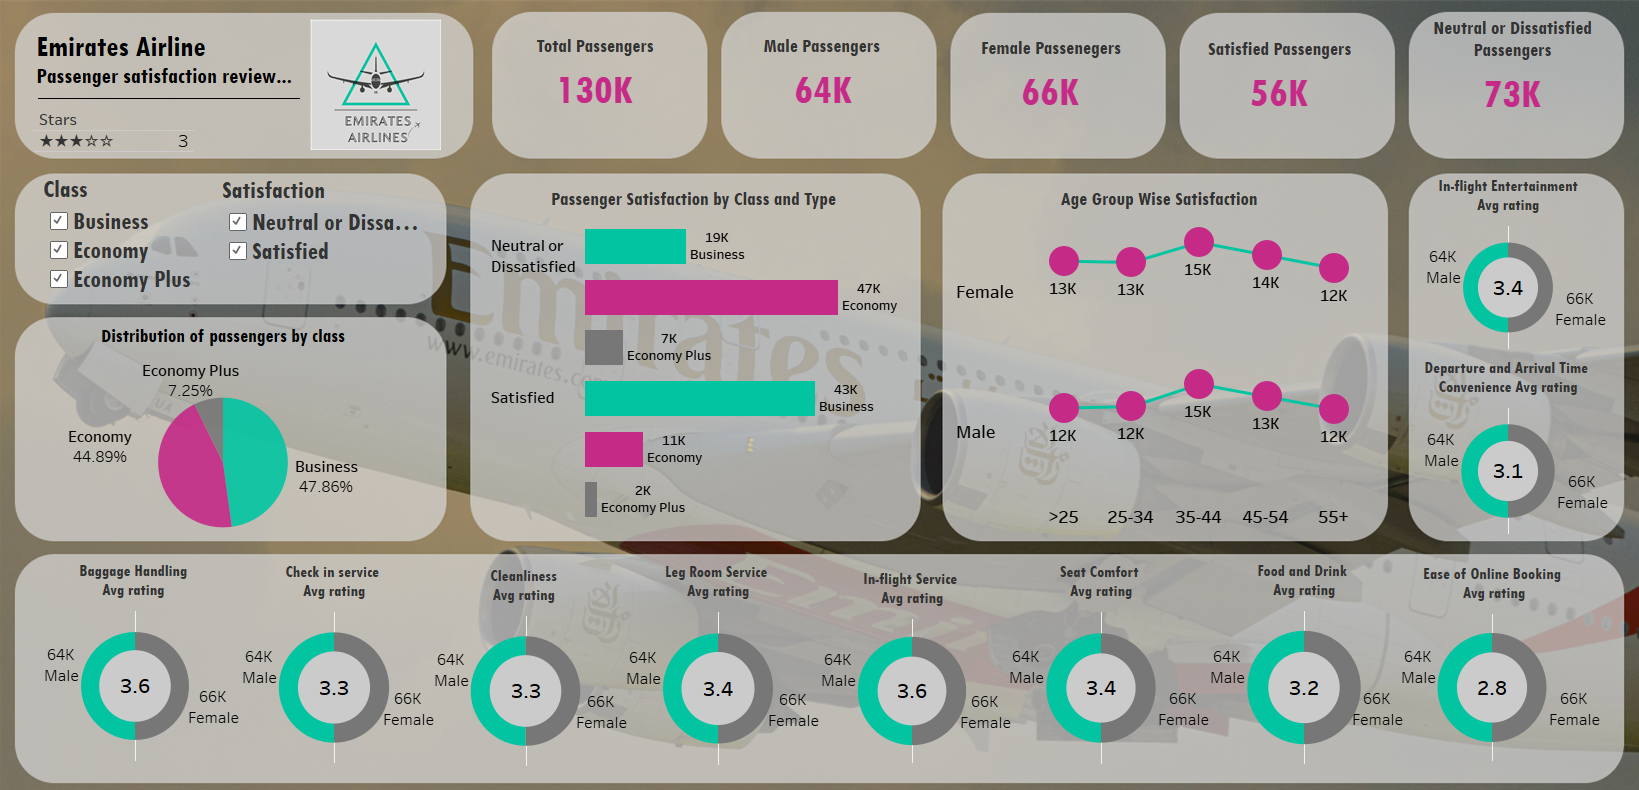

Layout of this report page (visuals, bound fields, positions):
{"tool":"tableau","page":{"name":"Emirates Airline","canvas":[1655,800],"ordinal":0},"visuals":[{"type":"worksheet","title":"Nutral or Dissatisfied Customers","mark":"Automatic","box":[1437,25,183,116]},{"type":"image","param":"Image/Black and Blue Airplane Travel Logo (1).png","box":[326,31,132,131]},{"type":"text","box":[49,37,303,71]},{"type":"worksheet","title":"Total Passengers","mark":"Automatic","box":[516,43,190,109]},{"type":"worksheet","title":"Males","mark":"Automatic","box":[752,43,176,119]},{"type":"worksheet","title":"Females","mark":"Automatic","box":[975,45,184,113]},{"type":"worksheet","title":"Satisfied Passengers","mark":"Automatic","box":[1206,46,179,124]},{"type":"worksheet","title":"AVG Rating","mark":"Automatic","rows":["Calculation_1039205648626974725"],"box":[49,72,331,94]},{"type":"worksheet","title":"In-flight Entertainmentavg rating","mark":"Pie","cols":["Calculation_1410752617556889601","Calculation_1410752617556889601"],"box":[1421,185,206,176]},{"type":"filter","title":"Males","param":"[federated.19vf7ja1uc3hfa10fmgwe16hjkwf].[none:Class:nk]","box":[59,188,157,127]},{"type":"filter","title":"Males","param":"[federated.19vf7ja1uc3hfa10fmgwe16hjkwf].[none:Satisfaction:nk]","box":[238,189,202,119]},{"type":"worksheet","title":"Passenger Satisfaction by Class and type","mark":"Automatic","rows":["Satisfaction","Class"],"cols":["Satisfaction"],"box":[501,196,417,341]},{"type":"worksheet","title":"Age group wise satisfaction","mark":"Automatic","rows":["Gender","Satisfaction","Satisfaction"],"cols":["Calculation_1410752617591324694"],"box":[966,196,418,345]},{"type":"worksheet","title":"Distribution of passengers by class","mark":"Pie","box":[41,333,396,246]},{"type":"worksheet","title":"Departure and Arrival Time Convenience","mark":"Pie","cols":["Calculation_1410752617556889601","Calculation_1410752617556889601"],"box":[1420,367,208,179]},{"type":"worksheet","title":"Baggage Handling avg rating ","mark":"Pie","cols":["Calculation_1410752617556889601","Calculation_1410752617556889601"],"box":[46,570,210,203]},{"type":"worksheet","title":"Food and Drink avg rating","mark":"Pie","cols":["Calculation_1410752617556889601","Calculation_1410752617556889601"],"box":[1220,570,200,206]},{"type":"worksheet","title":"Check in service avg rating","mark":"Pie","cols":["Calculation_1410752617556889601","Calculation_1410752617556889601"],"box":[249,571,202,204]},{"type":"worksheet","title":"Leg Room Service avg rating","mark":"Pie","cols":["Calculation_1410752617556889601","Calculation_1410752617556889601"],"box":[632,571,204,206]},{"type":"worksheet","title":"Seat Comfort avg rating","mark":"Pie","cols":["Calculation_1410752617556889601","Calculation_1410752617556889601"],"box":[1008,571,218,205]},{"type":"worksheet","title":"Ease of Online Booking avg rating","mark":"Pie","cols":["Calculation_1410752617556889601","Calculation_1410752617556889601"],"box":[1392,573,232,200]},{"type":"worksheet","title":"Cleanliness avg rating ","mark":"Pie","cols":["Calculation_1410752617556889601","Calculation_1410752617556889601"],"box":[439,575,205,203]},{"type":"worksheet","title":"In-flight Service avg rating","mark":"Pie","cols":["Calculation_1410752617556889601","Calculation_1410752617556889601"],"box":[828,578,200,197]}]}

Visuals, with their boxes in screenshot pixels (x1, y1, x2, y2), scaled from the page's 1655x800 canvas onto the 1639x790 screenshot:
"Nutral or Dissatisfied Customers" worksheet: 1423, 25, 1604, 139
image: 323, 31, 454, 160
text: 49, 37, 349, 107
"Total Passengers" worksheet: 511, 42, 699, 150
"Males" worksheet: 745, 42, 919, 160
"Females" worksheet: 966, 44, 1148, 156
"Satisfied Passengers" worksheet: 1194, 45, 1372, 168
"AVG Rating" worksheet: 49, 71, 376, 164
"In-flight Entertainmentavg rating" worksheet (Pie marks): 1407, 183, 1611, 356
"Males" filter: 58, 186, 214, 311
"Males" filter: 236, 187, 436, 304
"Passenger Satisfaction by Class and type" worksheet: 496, 194, 909, 530
"Age group wise satisfaction" worksheet: 957, 194, 1371, 534
"Distribution of passengers by class" worksheet (Pie marks): 41, 329, 433, 572
"Departure and Arrival Time Convenience" worksheet (Pie marks): 1406, 362, 1612, 539
"Baggage Handling avg rating " worksheet (Pie marks): 46, 563, 254, 763
"Food and Drink avg rating" worksheet (Pie marks): 1208, 563, 1406, 766
"Check in service avg rating" worksheet (Pie marks): 247, 564, 447, 765
"Leg Room Service avg rating" worksheet (Pie marks): 626, 564, 828, 767
"Seat Comfort avg rating" worksheet (Pie marks): 998, 564, 1214, 766
"Ease of Online Booking avg rating" worksheet (Pie marks): 1379, 566, 1608, 763
"Cleanliness avg rating " worksheet (Pie marks): 435, 568, 638, 768
"In-flight Service avg rating" worksheet (Pie marks): 820, 571, 1018, 765
